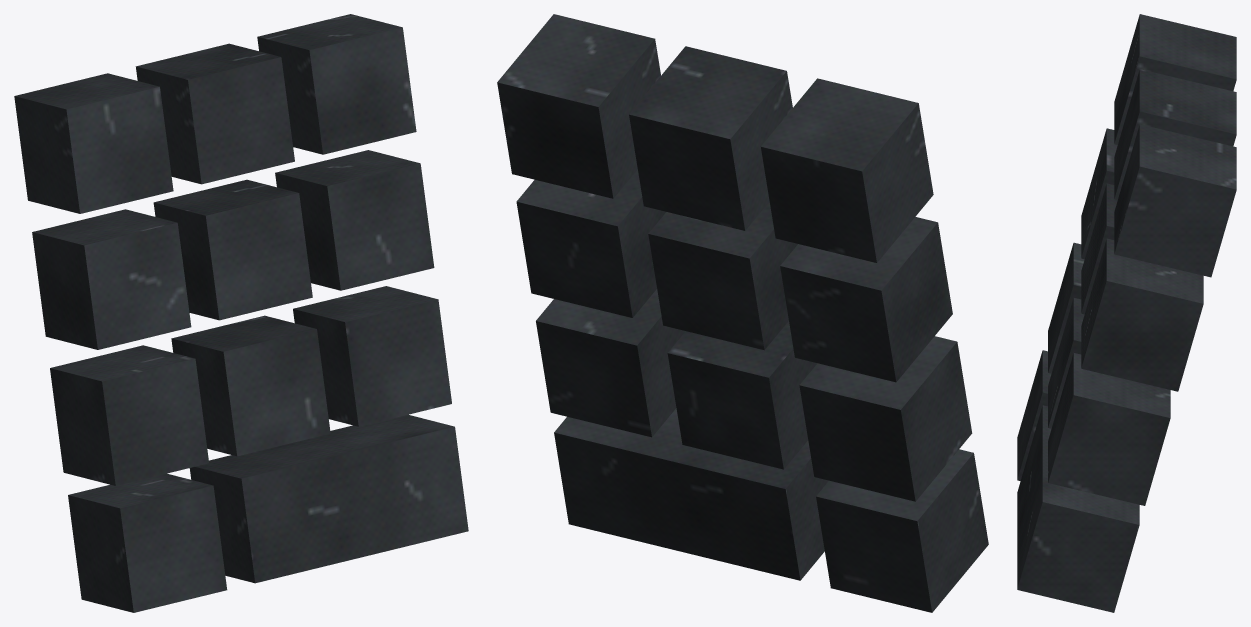
Rendered from DoorKeypad.001.fbx.
The picture shows the model from 3 angles, left to right: view 1: azimuth 30°, elevation 25°; view 2: azimuth 150°, elevation 25°; view 3: azimuth 270°, elevation 25°; orthographic projection. The views are drawn at different scales.
Parts seen in each view (by area): view 1: DoorKeypad.001; view 2: DoorKeypad.001; view 3: DoorKeypad.001.
Part boxes in pixels (x1=…): DoorKeypad.001: x1=14, y1=14, x2=468, y2=612; DoorKeypad.001: x1=497, y1=14, x2=988, y2=612; DoorKeypad.001: x1=1017, y1=14, x2=1236, y2=612.
Size of the model in its own units: 0.1991 by 0.2717 by 0.1211.
Materials: 1 (1 with a texture image).
